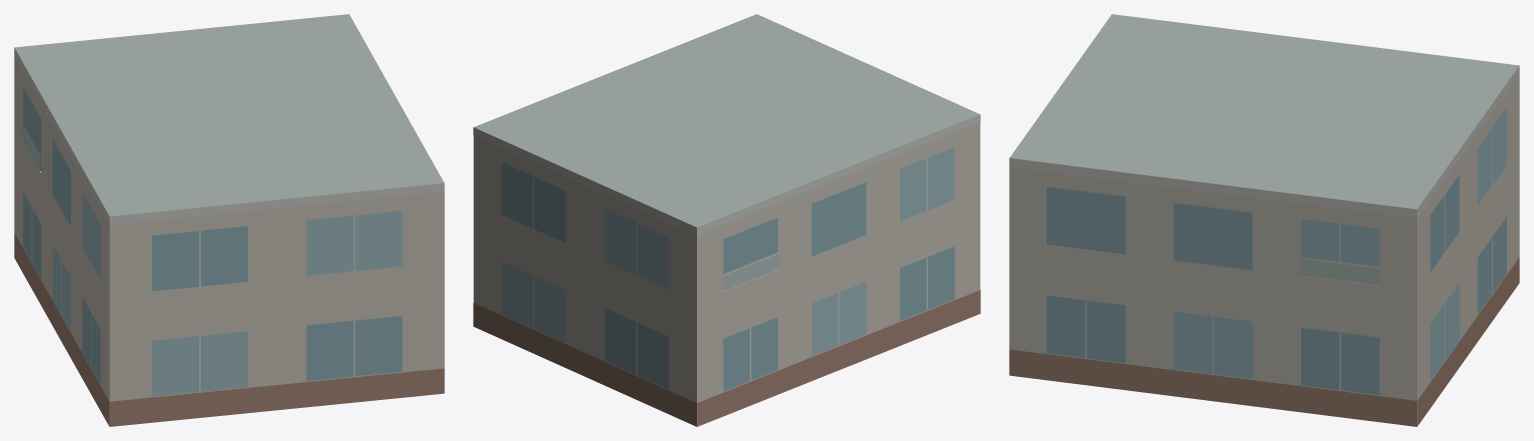
File: survey-upis-32803395.glb
The picture shows the model from 3 angles, left to right: view 1: azimuth 30°, elevation 25°; view 2: azimuth 150°, elevation 25°; view 3: azimuth 270°, elevation 25°; orthographic projection. The views are drawn at different scales.
Visible parts, largest first — view 1: survey-upis-32803395.tmp; view 2: survey-upis-32803395.tmp; view 3: survey-upis-32803395.tmp.
Part boxes in pixels (x1,y1,x2,y2): survey-upis-32803395.tmp: (14, 14, 444, 426); survey-upis-32803395.tmp: (473, 14, 980, 426); survey-upis-32803395.tmp: (1009, 14, 1519, 426).
Bounding box in the file's own units: 11.76 × 6.1 × 12.98.
